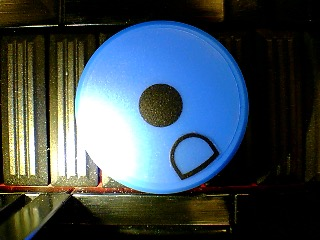BOHOMIPO1: (75, 19, 250, 195)
